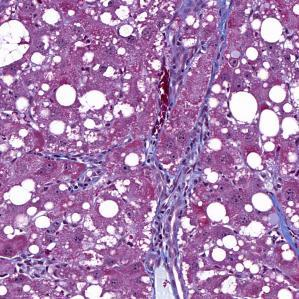fibrosis: (146, 158, 201, 252), (172, 0, 232, 78)
